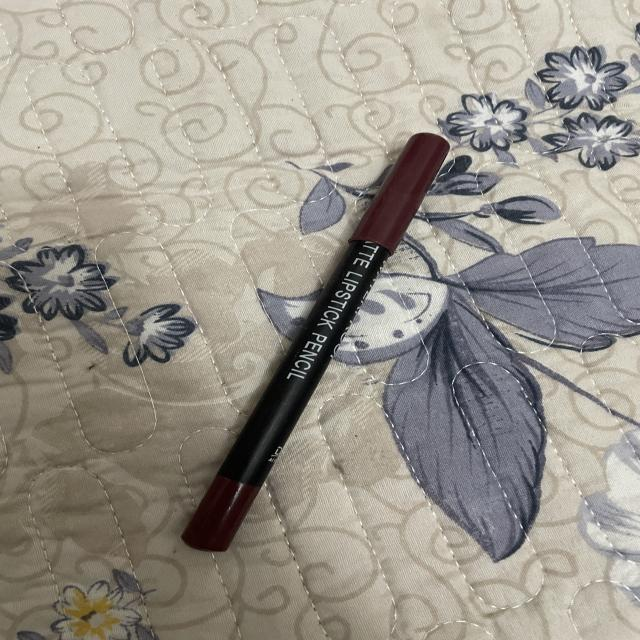lip liner: (182, 129, 442, 549)
